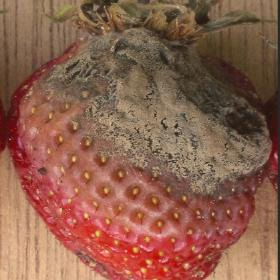Gray Mold: (16, 0, 274, 279)
